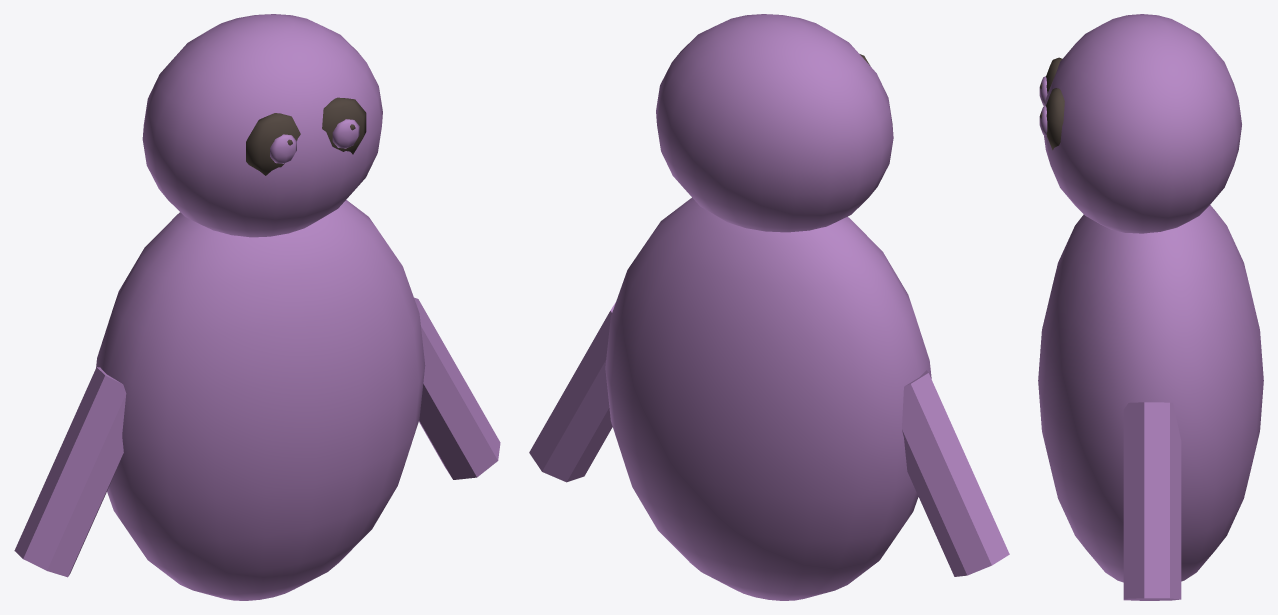
File: monster_aether_wraith.glb
3 views of the same model, side by side, from view 1: azimuth 30°, elevation 25°; view 2: azimuth 150°, elevation 25°; view 3: azimuth 270°, elevation 25° (orthographic). The views are drawn at different scales.
Visible parts, largest first — view 1: monster_aether_wraith_root; view 2: monster_aether_wraith_root; view 3: monster_aether_wraith_root.
Boxes of the visible parts, x1,y1,x2,y2 form: monster_aether_wraith_root: (14,14,500,600); monster_aether_wraith_root: (529,14,1009,600); monster_aether_wraith_root: (1038,14,1263,600).
Size of the model in its own units: 1.74 by 2 by 0.7429.
